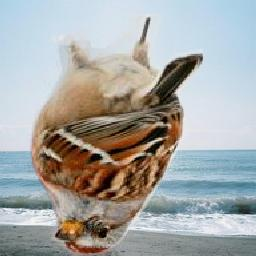Sparrow: (29, 14, 204, 256)
